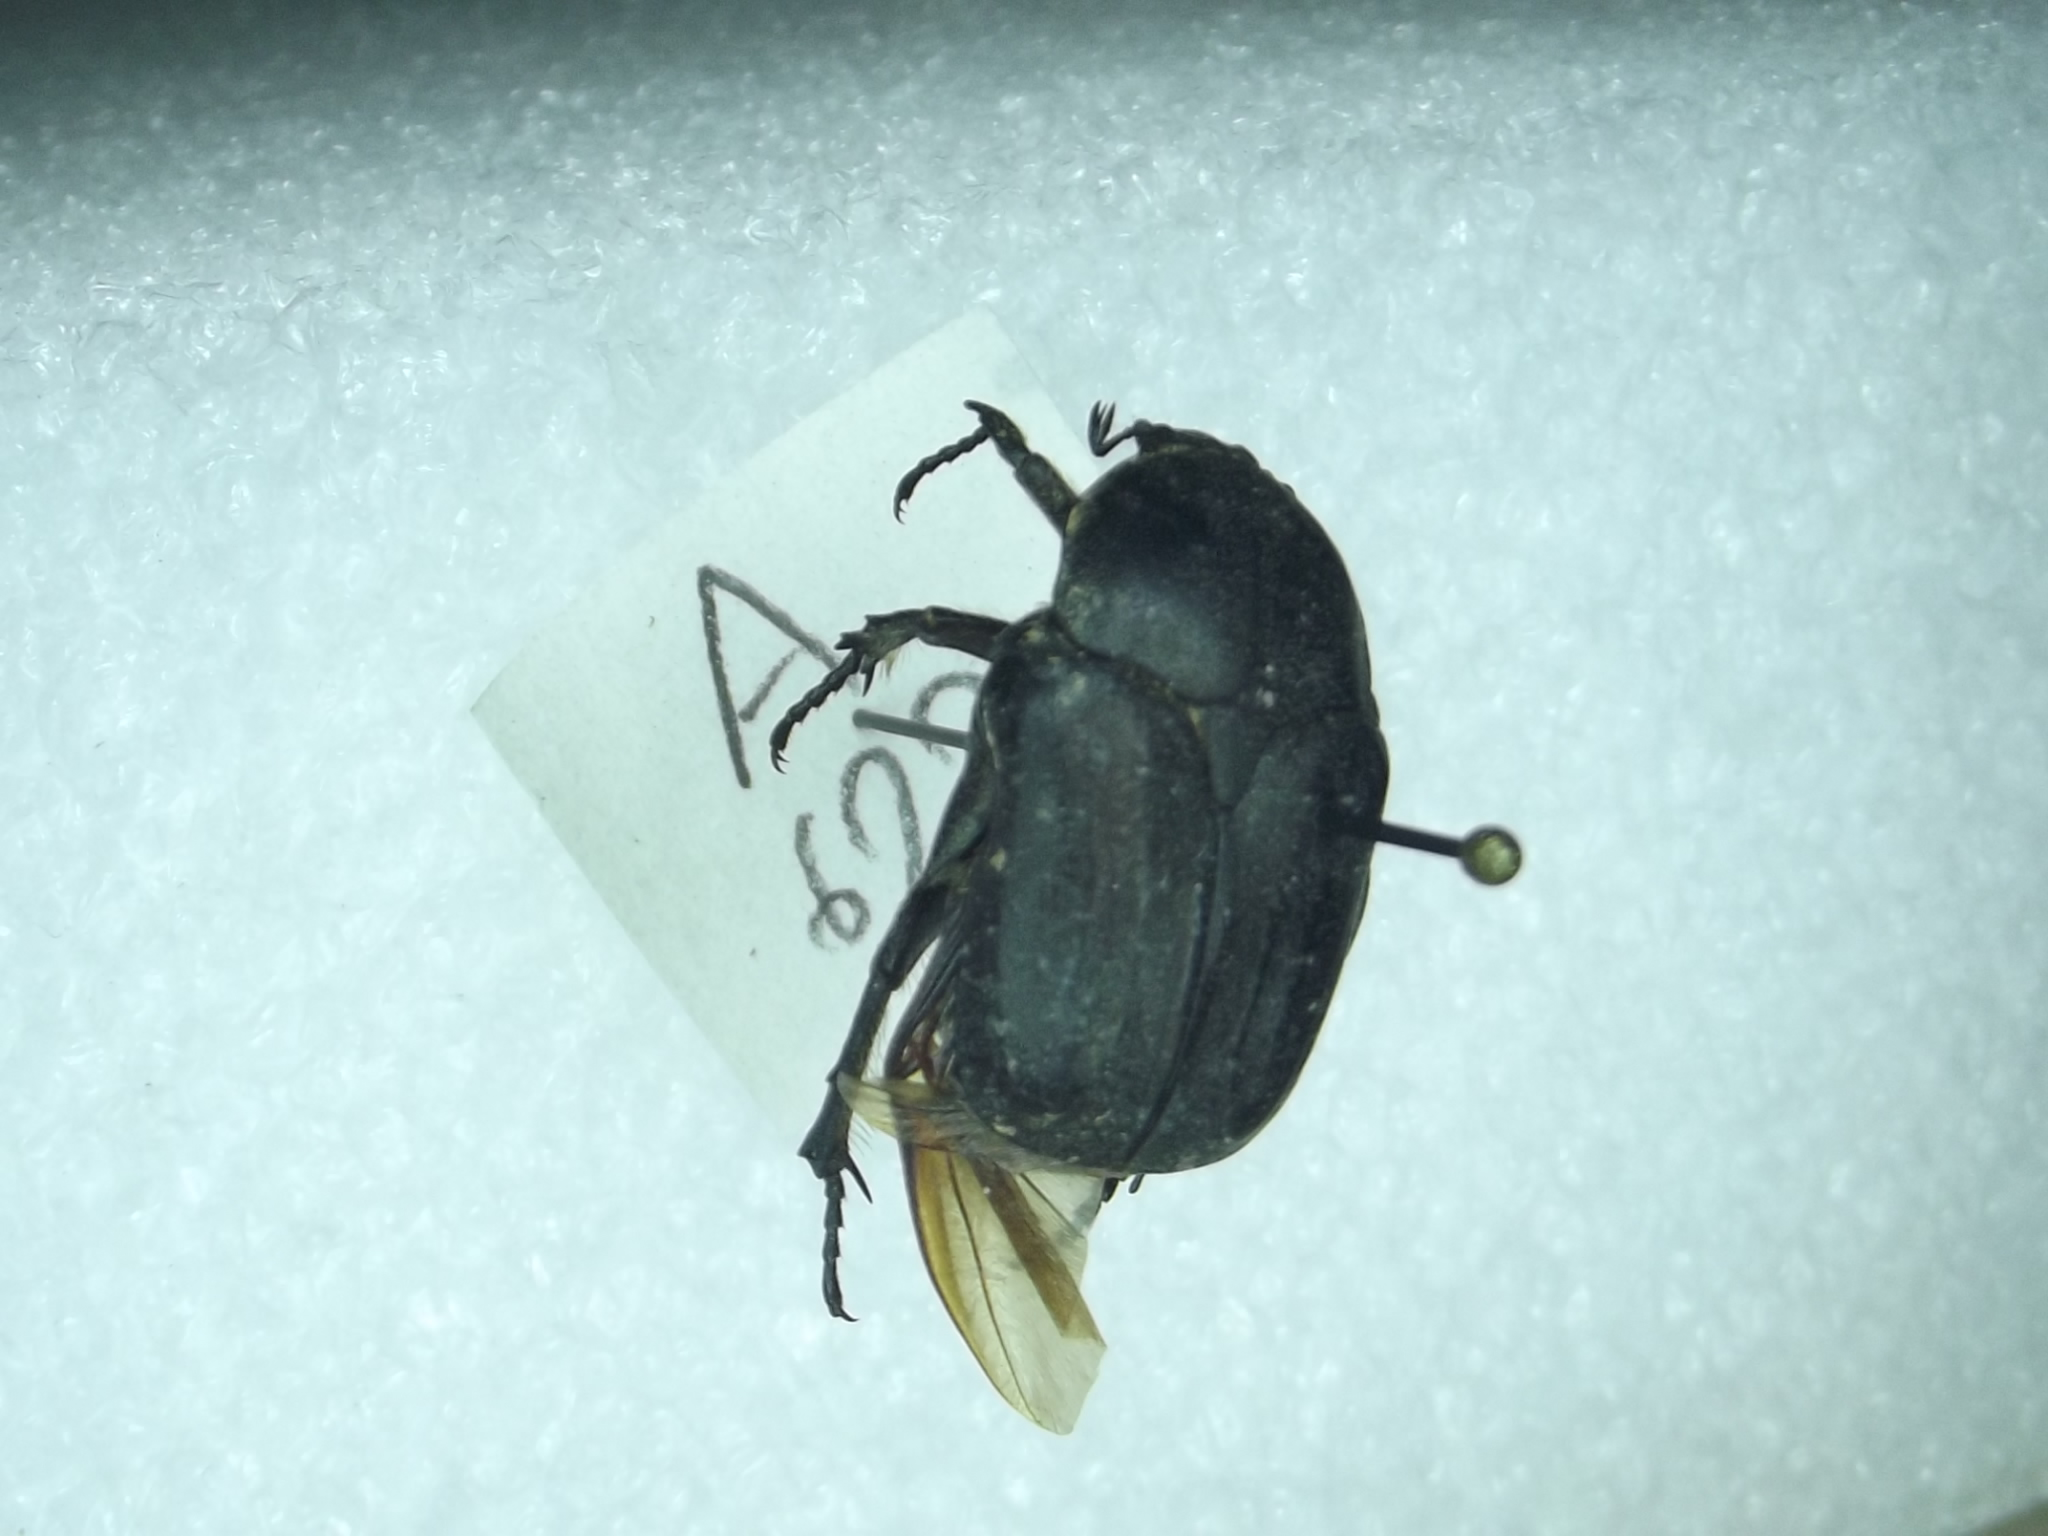Protaetia_asiatica: (710, 329, 1413, 1371)
